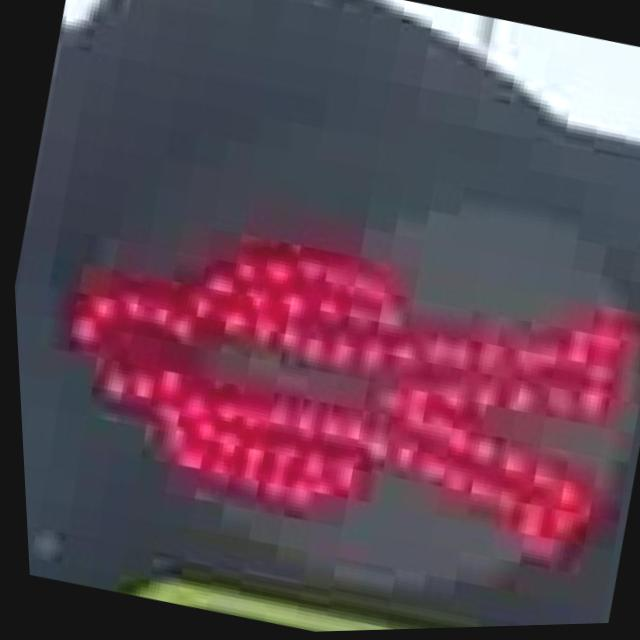red_light: (6, 128, 640, 627)
